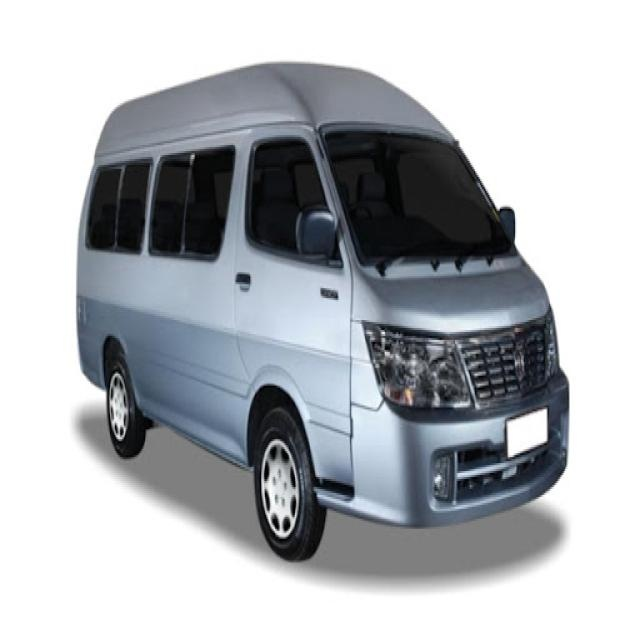Van: (77, 60, 572, 563)
